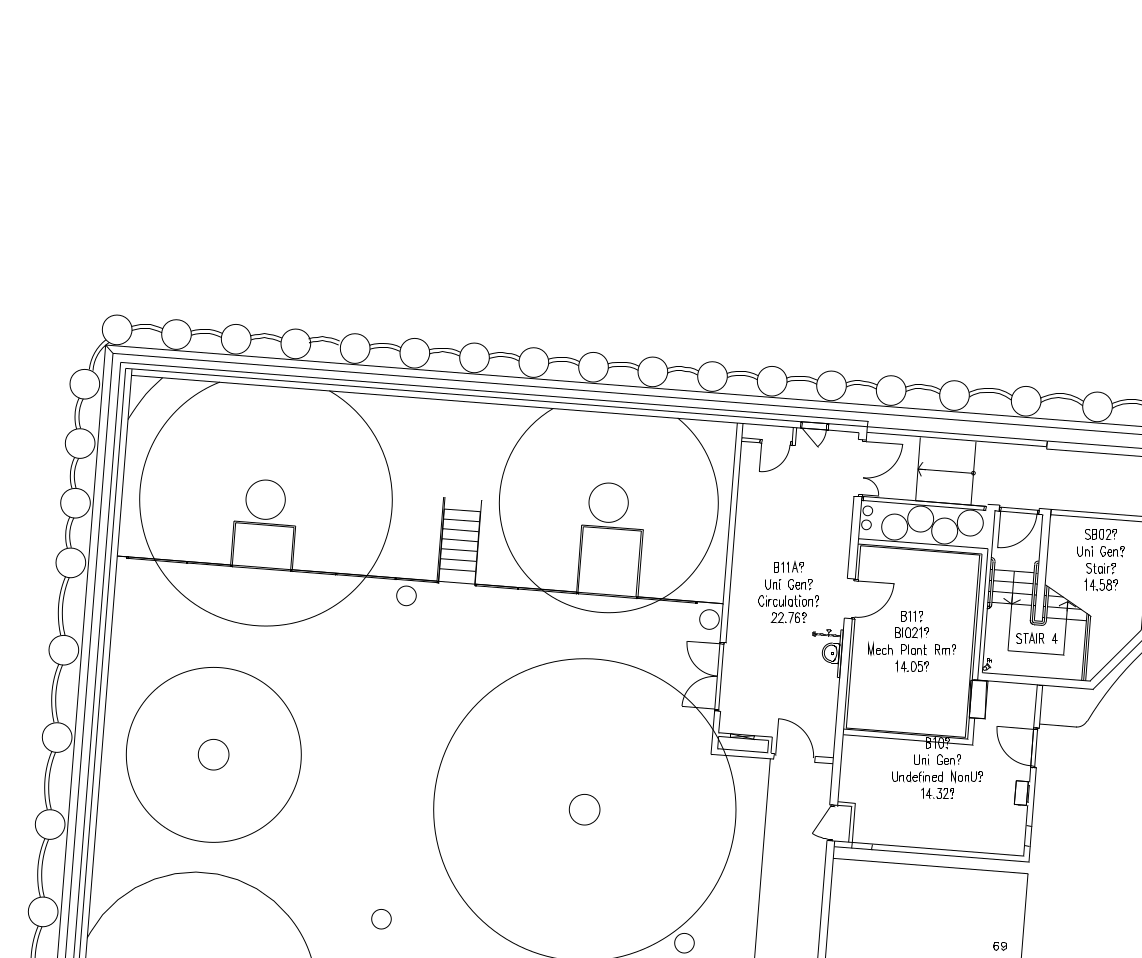door: (676, 635, 726, 715), (859, 437, 908, 501), (848, 572, 897, 627), (995, 505, 1039, 556), (992, 721, 1036, 772), (772, 712, 817, 761), (751, 435, 794, 480), (801, 799, 843, 845), (795, 421, 836, 452)
